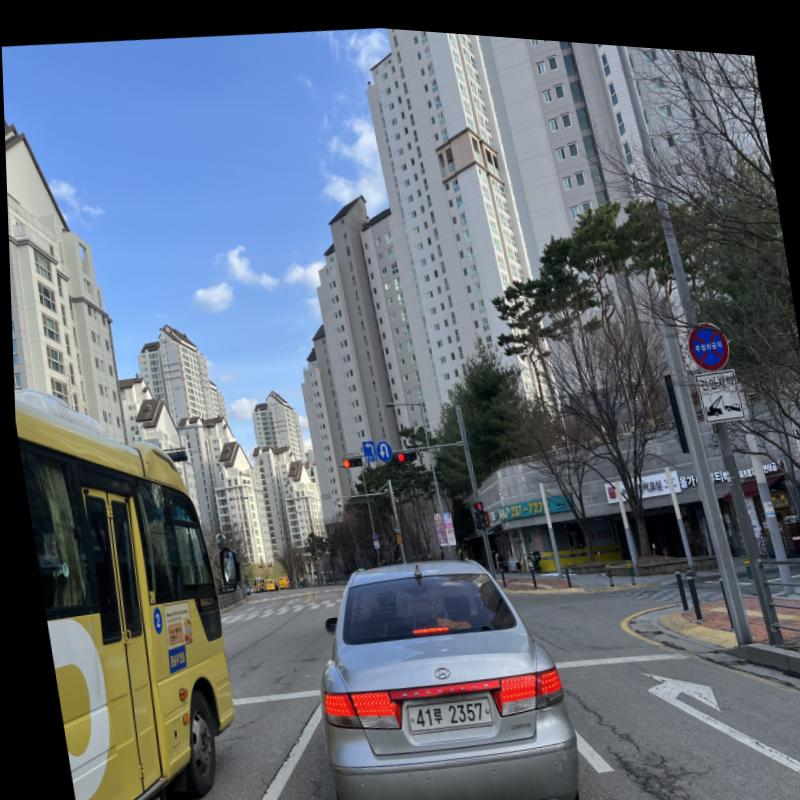red: (394, 446, 401, 456), (339, 454, 346, 462)
